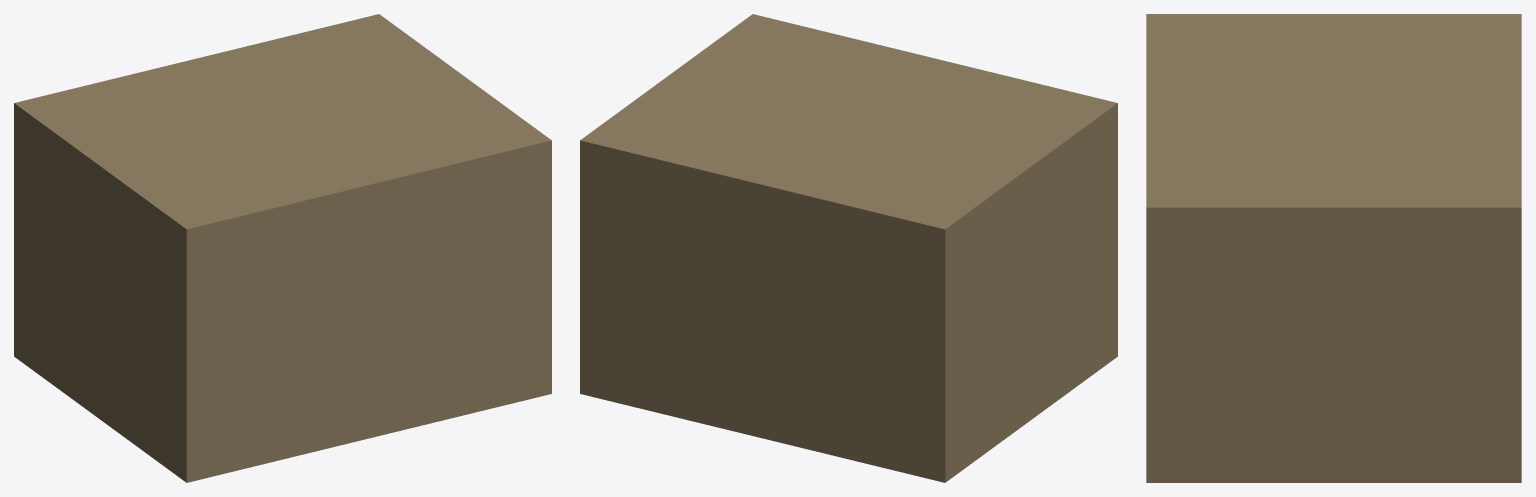
File: prop_choga_lod2.glb
The picture shows the model from 3 angles, left to right: view 1: azimuth 30°, elevation 25°; view 2: azimuth 150°, elevation 25°; view 3: azimuth 270°, elevation 25°; orthographic projection. The views are drawn at different scales.
Visible parts, largest first — view 1: prop_choga_lod2; view 2: prop_choga_lod2; view 3: prop_choga_lod2.
Part boxes in pixels (box(x1,y1,x2,y2)): prop_choga_lod2: box(14, 14, 551, 482); prop_choga_lod2: box(580, 14, 1117, 482); prop_choga_lod2: box(1146, 14, 1521, 482).
Size of the model in its own units: 5.2 by 3.45 by 4.26.
